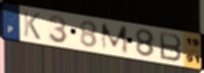3: (47, 15, 69, 45)
8: (134, 28, 156, 58), (79, 20, 99, 49)
B: (158, 31, 183, 63)
K: (23, 9, 43, 42)
M: (99, 23, 131, 56)
